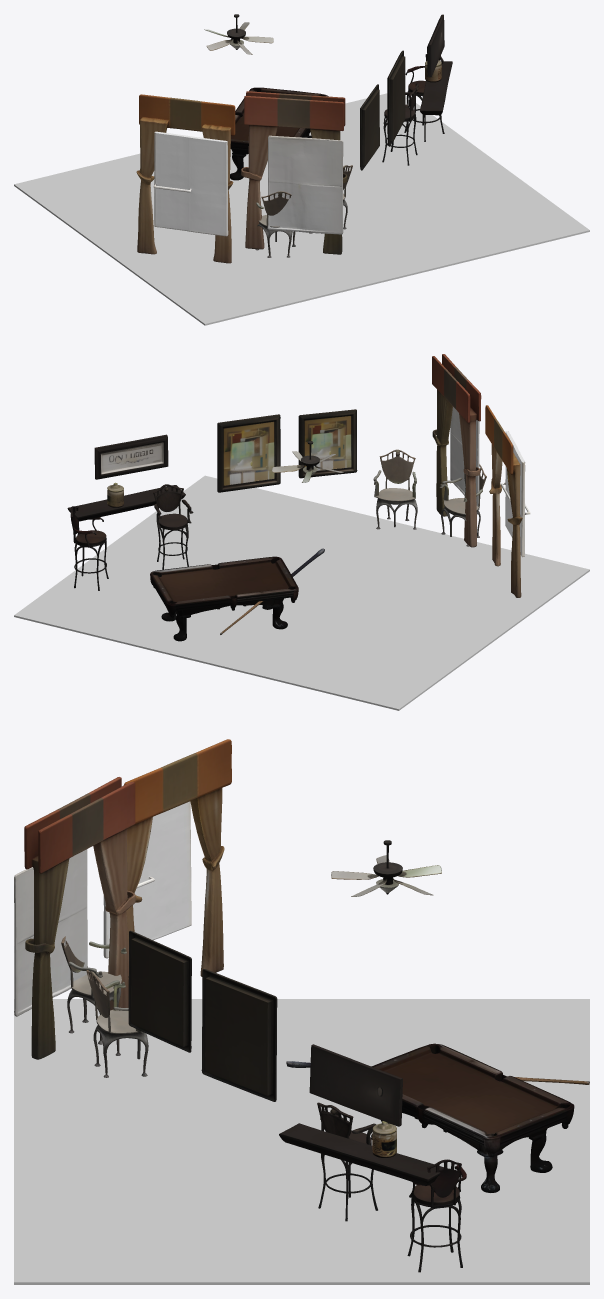
The model's file is stage1.glb.
3 renders of one model, top to bottom at view 1: azimuth 30°, elevation 25°; view 2: azimuth 150°, elevation 25°; view 3: azimuth 270°, elevation 25°, orthographic. The views are drawn at different scales.
Parts seen in each view (by area): view 1: floor, obj_9, obj_15, obj_16, obj_13, obj_5, obj_1, obj_17, obj_7, obj_2, obj_12, obj_4 (+1 smaller); view 2: floor, obj_5, obj_1, obj_16, obj_13, obj_17, obj_4, obj_12, obj_7, obj_15, obj_10, obj_9 (+1 smaller); view 3: floor, obj_16, obj_5, obj_1, obj_13, obj_9, obj_15, obj_4, obj_17, obj_7, obj_10, obj_12 (+2 smaller).
Boxes of the visible parts, box(x1,y1,x2,y2) form: floor: box(14, 93, 589, 325); obj_9: box(153, 131, 228, 236); obj_15: box(267, 135, 343, 234); obj_16: box(241, 91, 347, 254); obj_13: box(136, 94, 235, 263); obj_5: box(360, 50, 405, 170); obj_1: box(230, 87, 328, 180); obj_17: box(255, 165, 352, 257); obj_7: box(420, 61, 452, 115); obj_2: box(204, 14, 273, 54); obj_12: box(382, 83, 418, 165); obj_4: box(427, 14, 444, 76); floor: box(14, 475, 589, 710); obj_5: box(217, 409, 357, 492); obj_1: box(150, 556, 298, 641); obj_16: box(432, 354, 481, 547); obj_13: box(485, 405, 522, 597); obj_17: box(373, 449, 486, 546); obj_4: box(94, 434, 168, 479); obj_12: box(153, 484, 193, 569); obj_7: box(67, 485, 185, 521); obj_15: box(450, 407, 479, 509); obj_10: box(70, 506, 108, 590); obj_9: box(501, 431, 530, 557); floor: box(14, 999, 589, 1284); obj_16: box(24, 777, 135, 1059); obj_5: box(128, 930, 277, 1101); obj_1: box(371, 1043, 574, 1192); obj_13: box(123, 739, 231, 976); obj_9: box(103, 801, 191, 958); obj_15: box(14, 849, 87, 1016); obj_4: box(309, 1044, 402, 1126); obj_17: box(61, 936, 148, 1077); obj_7: box(279, 1123, 443, 1185); obj_10: box(407, 1159, 466, 1272); obj_12: box(317, 1102, 377, 1221).
Size of the model in its own units: 2.45 by 1.13 by 2.1.
Materials: 14 (14 with a texture image).
